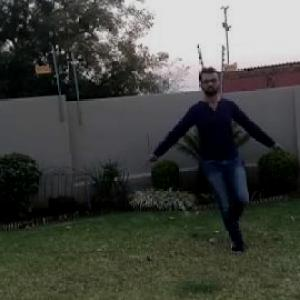land: (156, 71, 280, 242)
